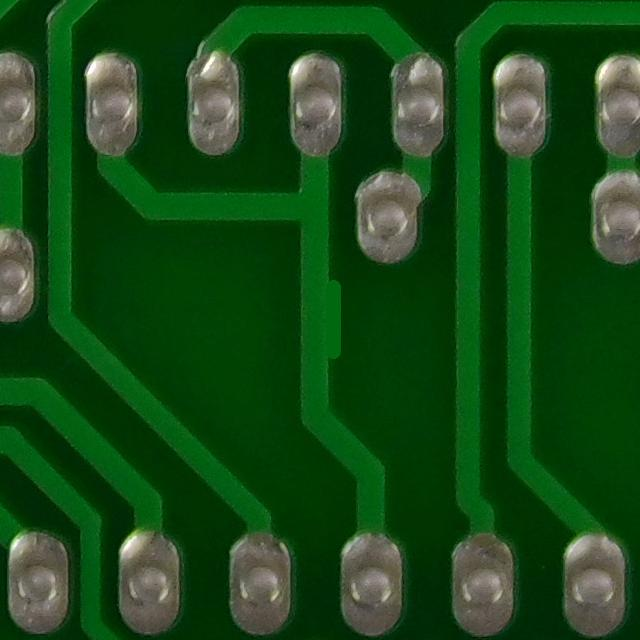spur: (284, 269, 356, 371)
